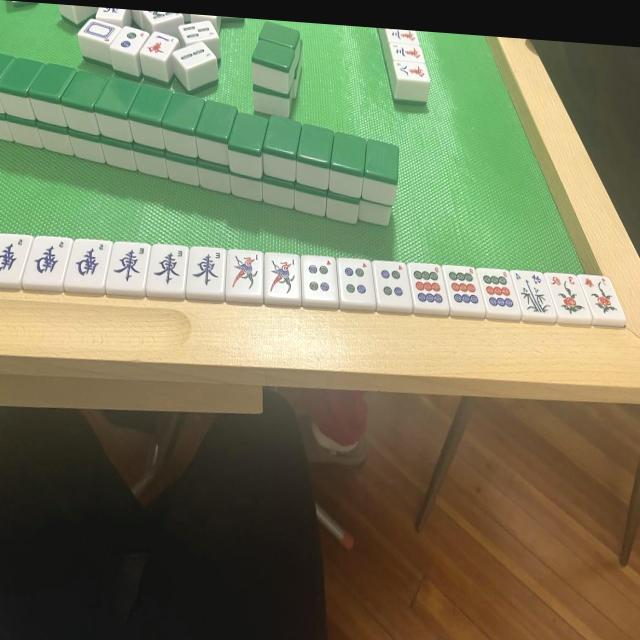east: (112, 243, 146, 286), (191, 247, 223, 292), (152, 246, 185, 289)
f4: (516, 271, 550, 315)
ff1: (582, 276, 619, 319)
ff3: (550, 275, 585, 320)
s1: (230, 251, 262, 294), (268, 253, 299, 297)
south: (31, 238, 63, 284), (74, 239, 106, 283), (0, 235, 23, 280)
t4: (341, 259, 371, 301), (305, 257, 335, 298), (377, 262, 406, 302)
t9: (447, 266, 478, 308), (412, 264, 443, 306), (483, 270, 513, 311)
